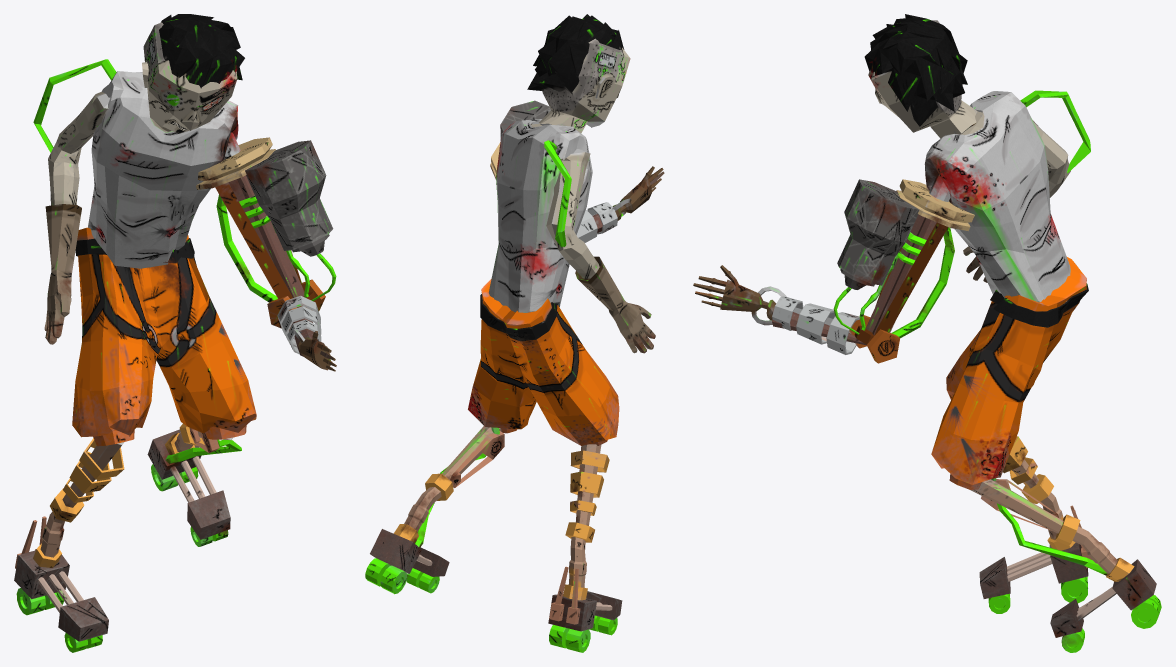
File: CyborgFINALAnimation_000010.obj
3 views of the same model, side by side, from view 1: azimuth 30°, elevation 25°; view 2: azimuth 150°, elevation 25°; view 3: azimuth 270°, elevation 25° (orthographic). The views are drawn at different scales.
Visible parts, largest first — view 1: CyborgMesh_Cube.002; view 2: CyborgMesh_Cube.002; view 3: CyborgMesh_Cube.002.
Boxes of the visible parts, box(x1,y1,x2,y2) form: CyborgMesh_Cube.002: box(14, 14, 336, 652); CyborgMesh_Cube.002: box(365, 14, 664, 652); CyborgMesh_Cube.002: box(693, 14, 1161, 652).
Size of the model in its own units: 3.37 by 8.92 by 6.14.
